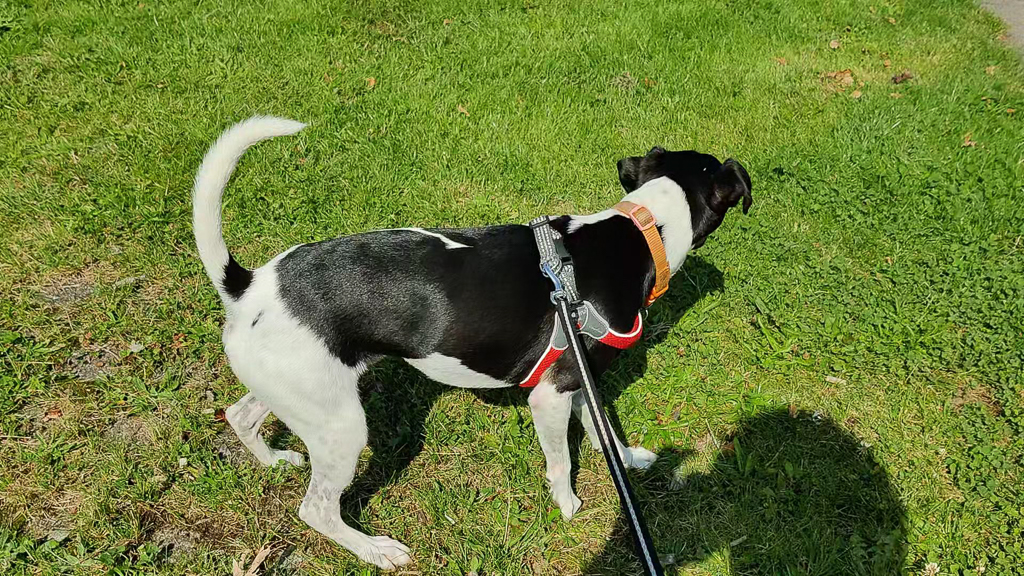Dog: (185, 93, 757, 575)
